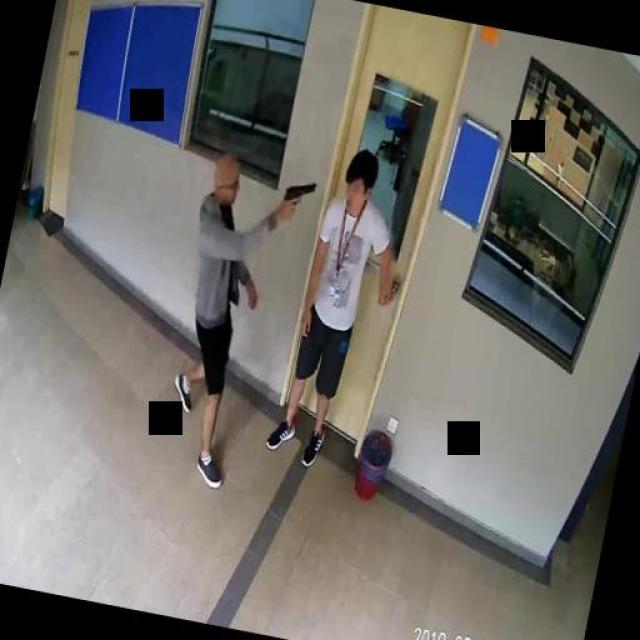gun: (277, 175, 315, 223)
